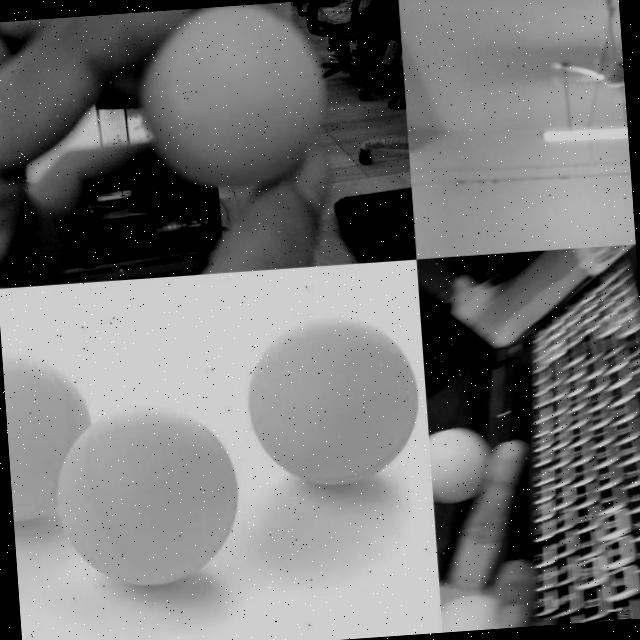ping-pong-ball: (134, 0, 334, 197), (51, 402, 242, 590), (242, 308, 421, 490), (1, 344, 100, 529), (428, 423, 494, 501), (440, 591, 504, 632)
